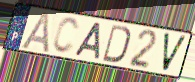2: (128, 28, 158, 71)
A: (18, 10, 51, 55), (72, 21, 103, 62)
C: (51, 16, 81, 56)
D: (101, 23, 132, 65)
V: (161, 31, 188, 75)
